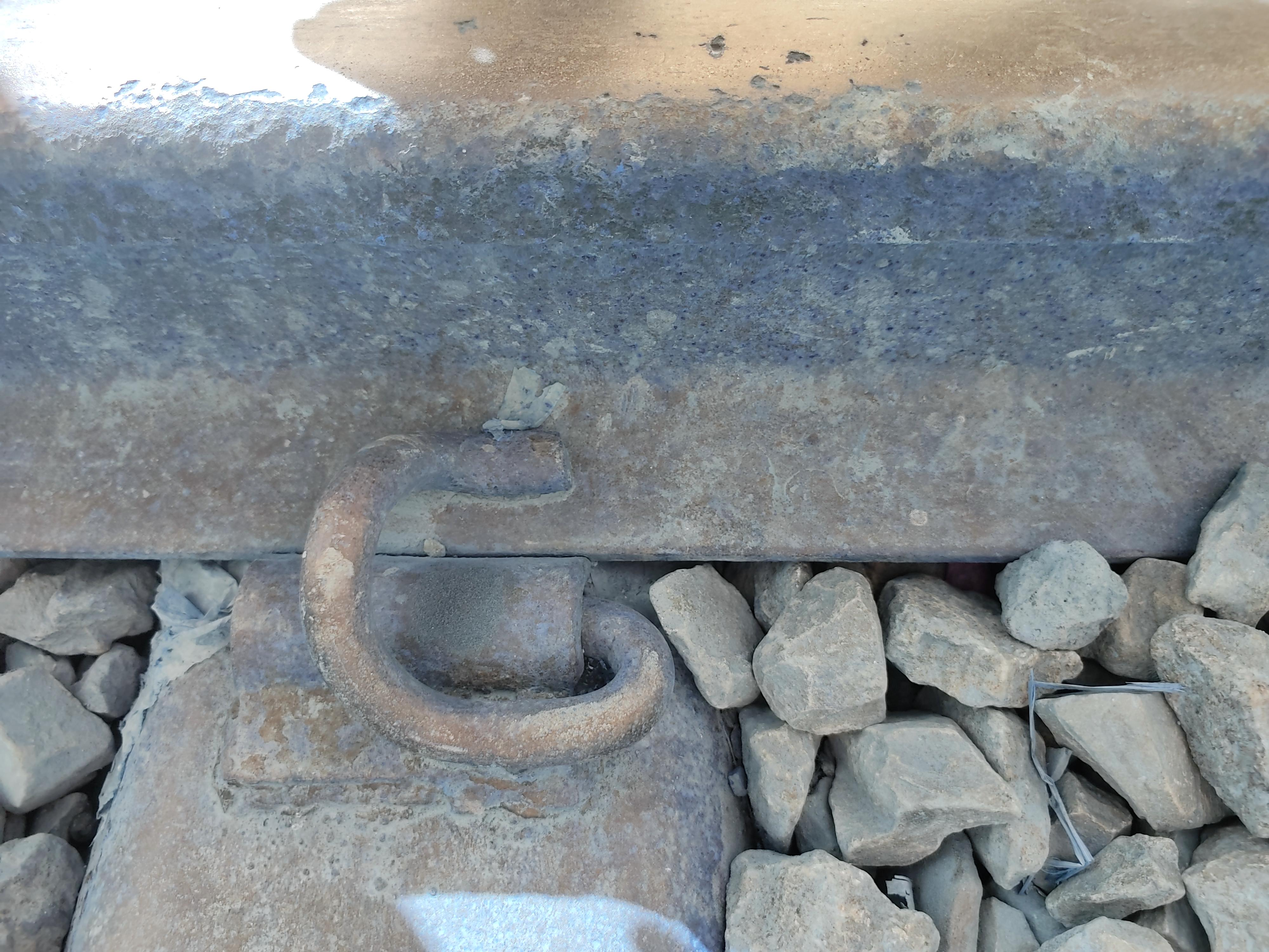Poor contact: (250, 378, 670, 817)
